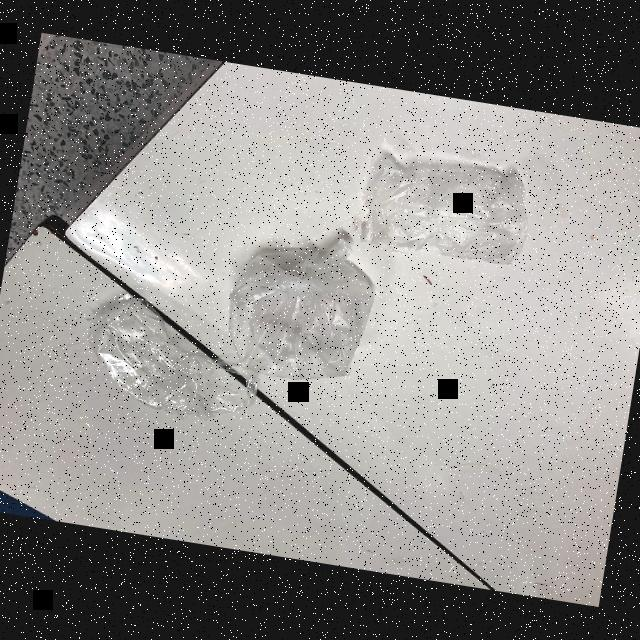plastic_bag: (56, 286, 274, 443), (218, 220, 382, 396)
scrap_plastic: (336, 142, 544, 286)
